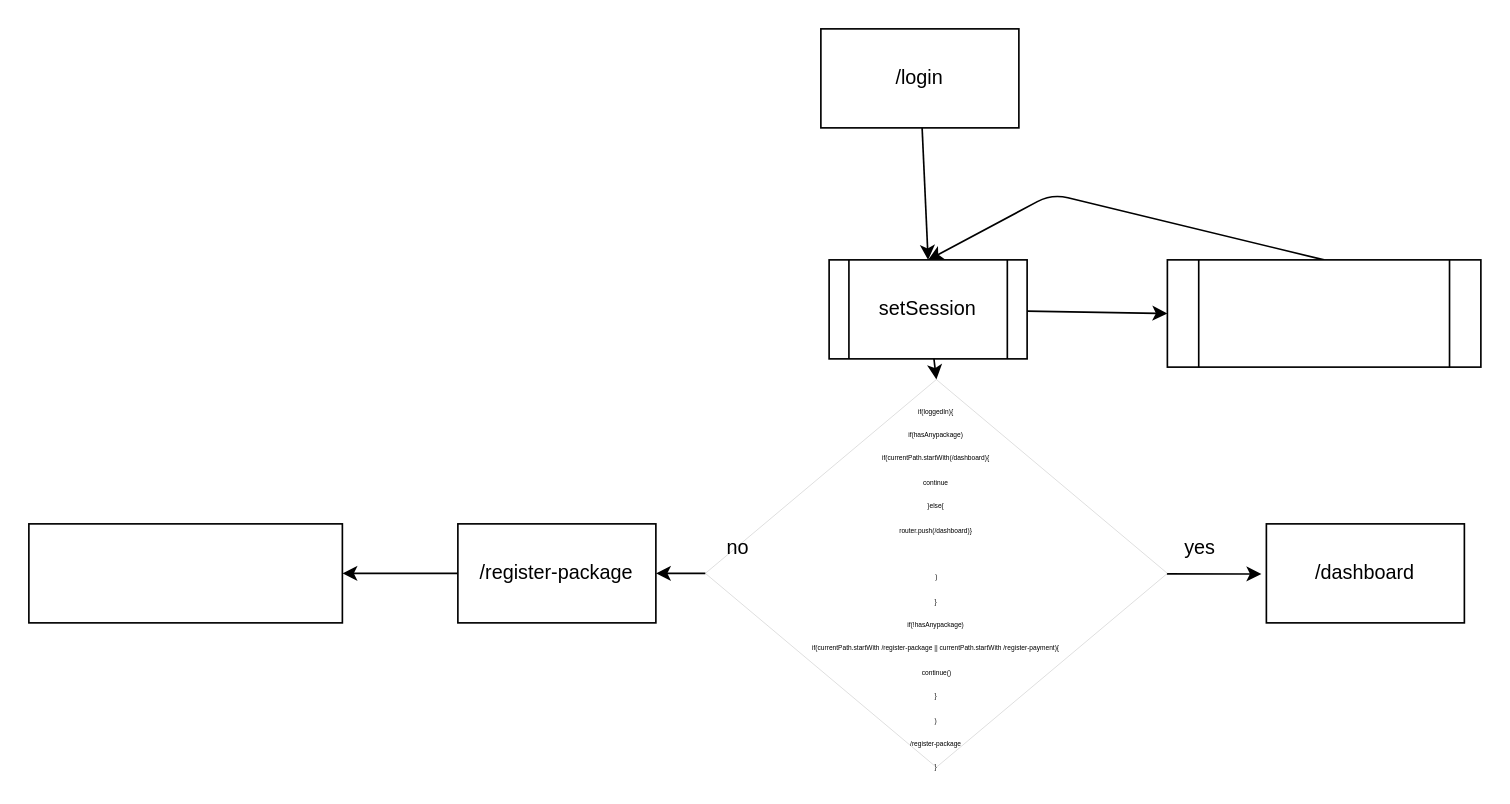
Some shapes in this 1510 by 804 pixel diagram are drawn without their labels. The shapes that lost their labels are listed below. From the top down, each one's centre as x and y in pixels, then its label:
At point (1323, 312): "setTimeout(async ()=>{ await refreshToken() },58min)".
At point (184, 572): "/register-payment?id='xxx'".
